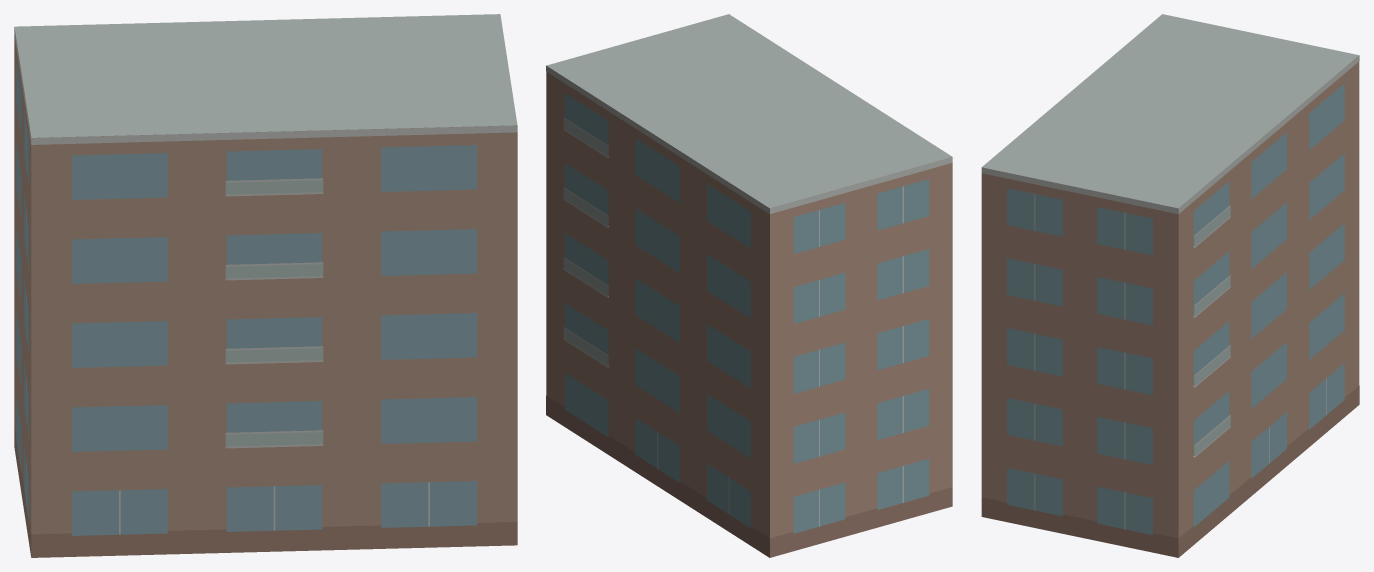
File: survey-upis-32893095.glb
3 views of the same model, side by side, from view 1: azimuth 30°, elevation 25°; view 2: azimuth 150°, elevation 25°; view 3: azimuth 270°, elevation 25° (orthographic). The views are drawn at different scales.
Visible parts, largest first — view 1: survey-upis-32893095.tmp; view 2: survey-upis-32893095.tmp; view 3: survey-upis-32893095.tmp.
Boxes of the visible parts, x1,y1,x2,y2 form: survey-upis-32893095.tmp: (14, 14, 517, 557); survey-upis-32893095.tmp: (546, 14, 952, 557); survey-upis-32893095.tmp: (981, 14, 1359, 557).
Size of the model in its own units: 17.37 by 14.55 by 14.27.
